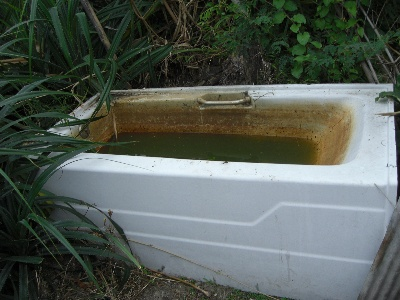tub: (29, 82, 398, 299)
